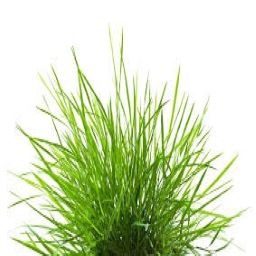grass: (7, 25, 242, 255)
